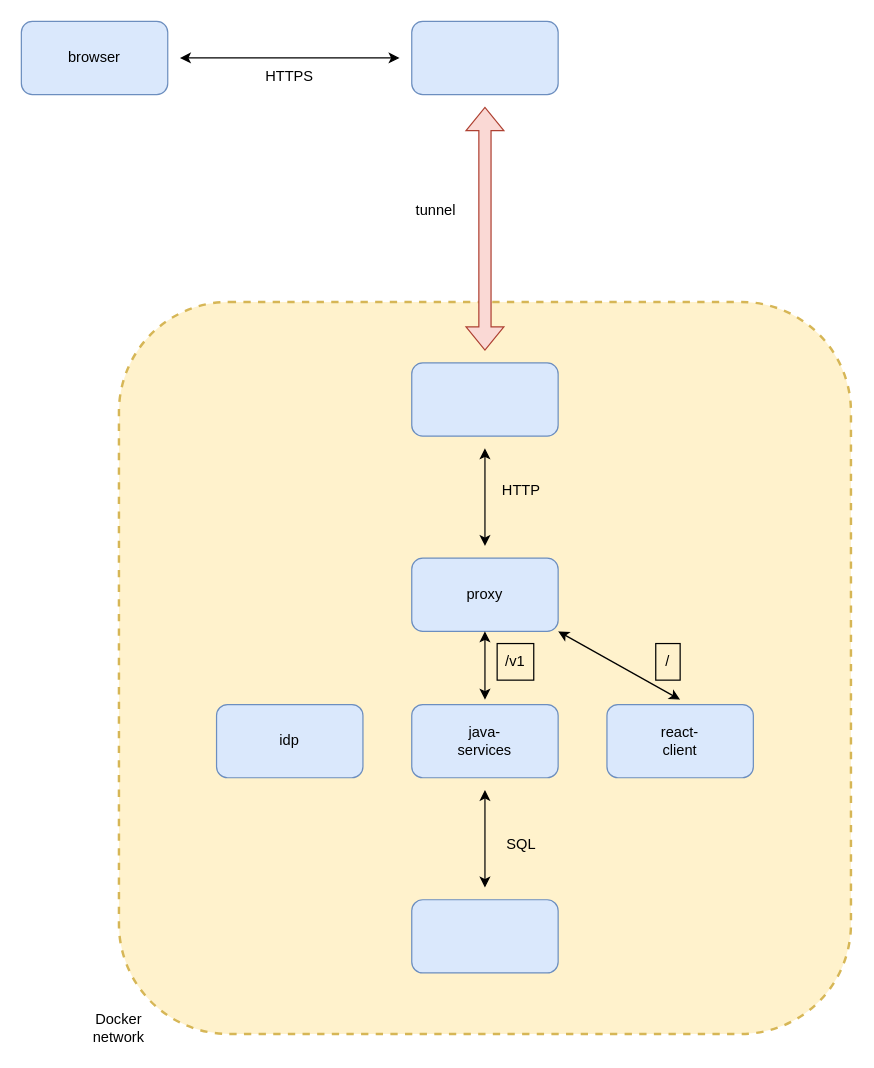
Some shapes in this 874 by 1068 pixel diagram are drawn without their labels. Here are the shapes that lost their labels. From the top down, the centre of each, then its label:
(x=484, y=57): tunnel server
(x=484, y=399): tunnel client
(x=484, y=936): db
